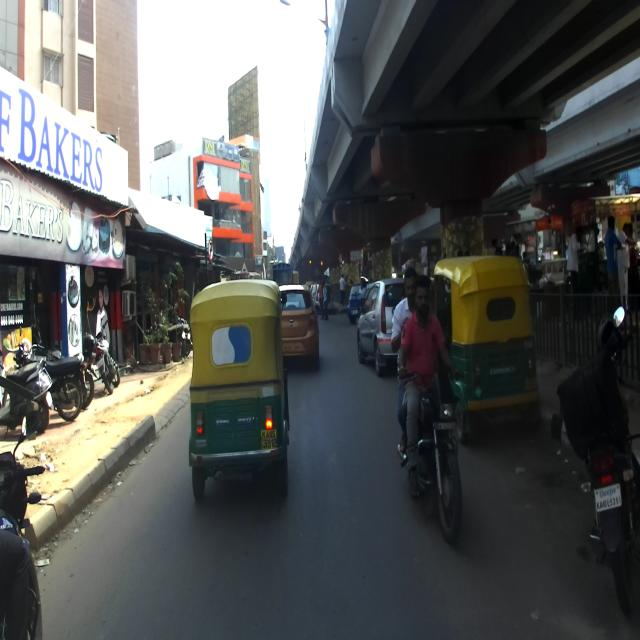auto ahead at: (187, 287, 289, 494)
motorcycle ahead at: (566, 306, 640, 592), (392, 352, 464, 538)
